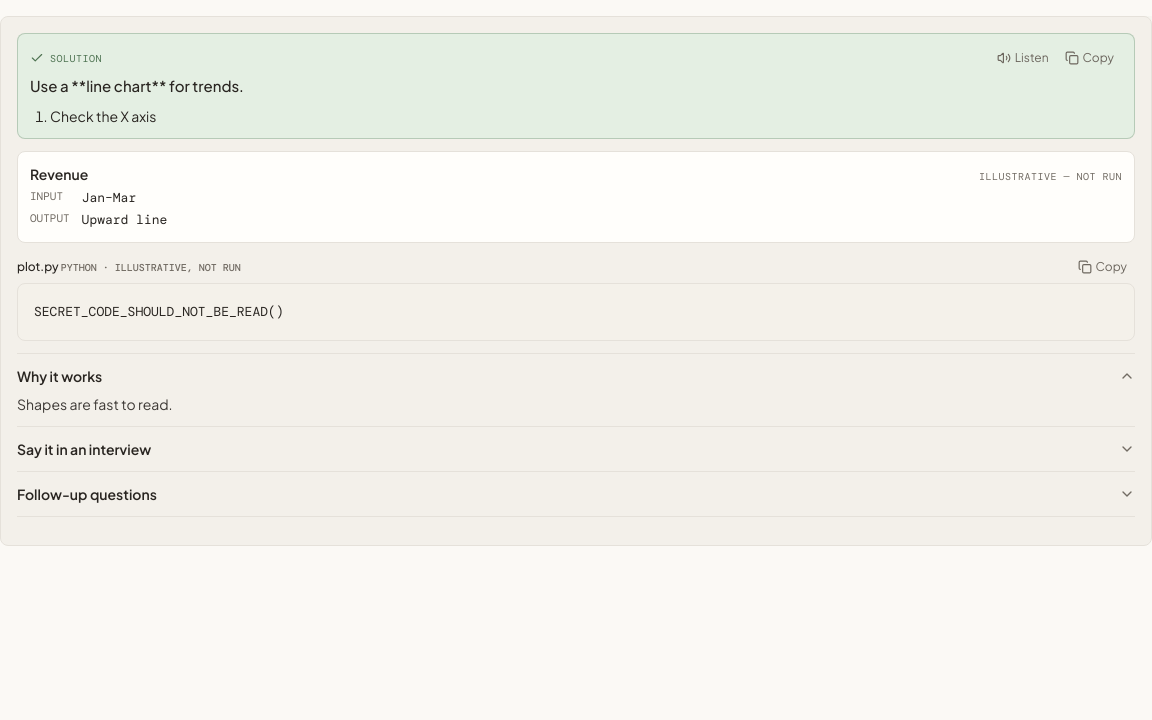
Test case: read aloud › Listen speaks with the chosen voice; Stop cancels
Click the button with aria-label "Listen to this answer" at (1023, 58), box [989,46,1057,70]
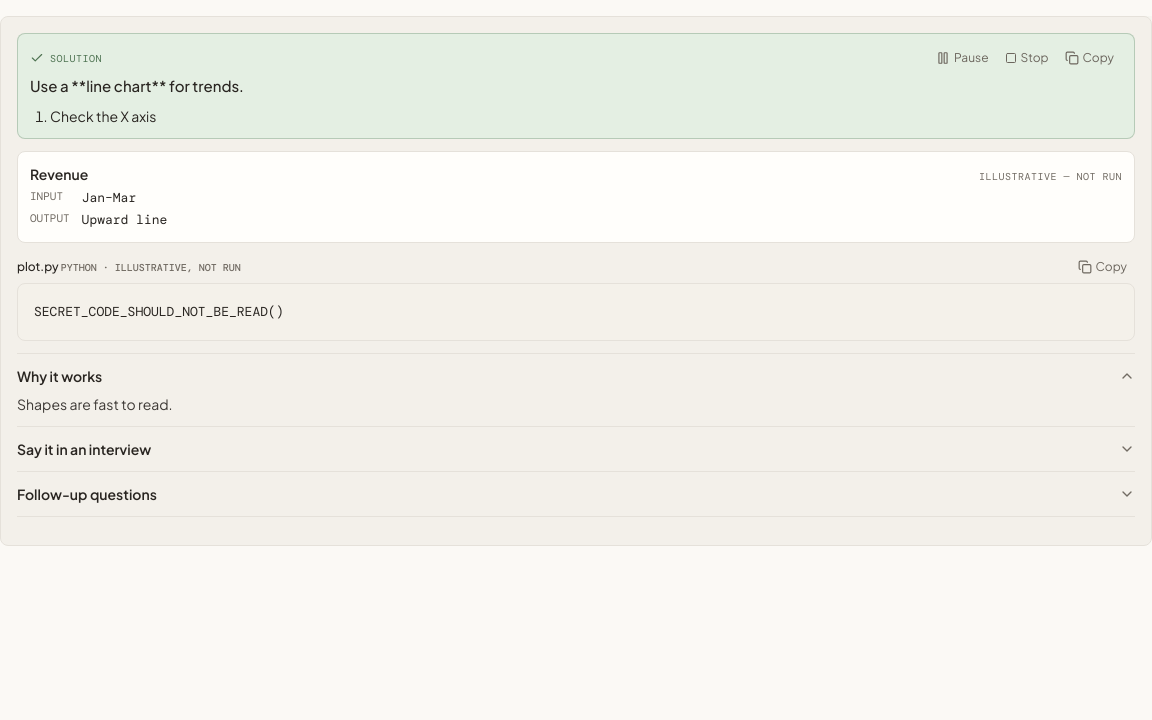
Click the button with aria-label "Stop reading" at (1026, 58), box [996,46,1056,70]
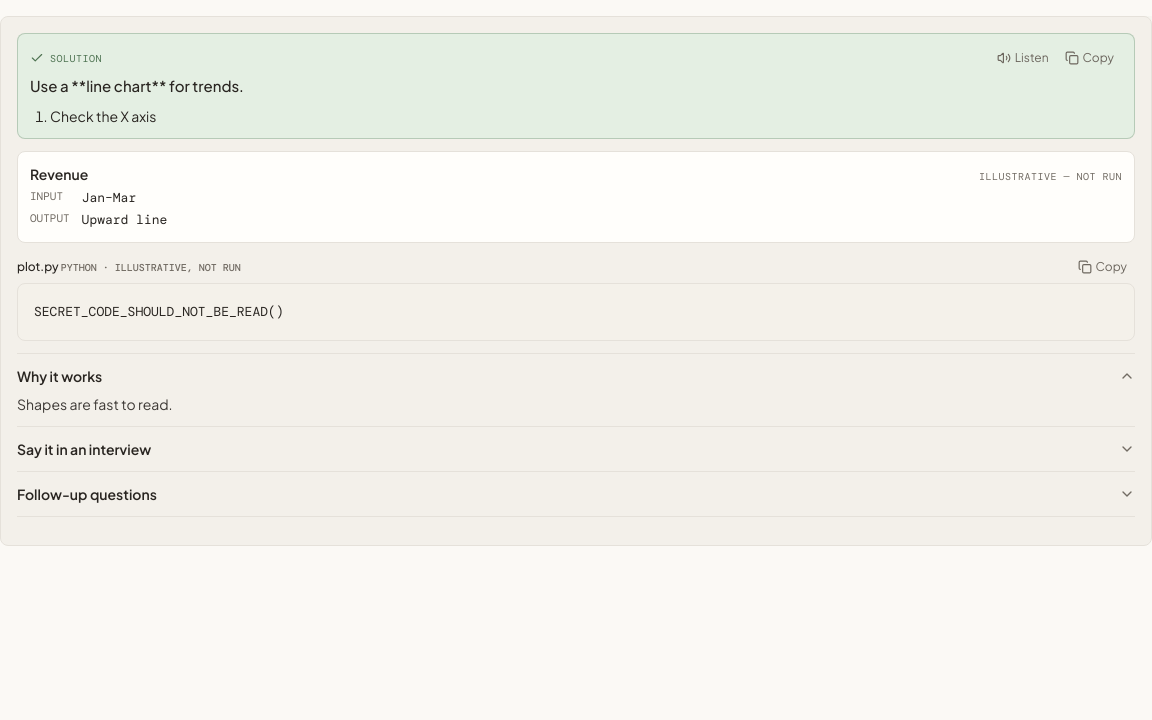
expect the button with aria-label "Listen to this answer" is shown: met, box [989,46,1057,70]
